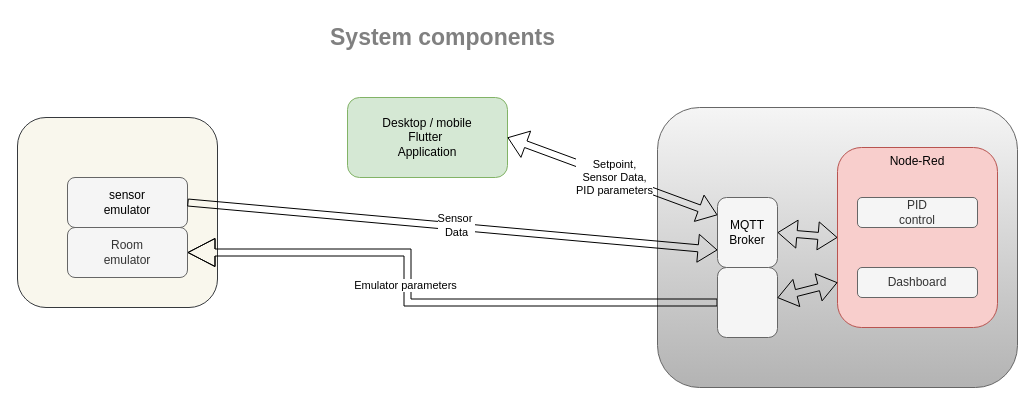
This 1035x405 diagram has some shape labels left out. Each missing label, with the box of its shape:
Cloud Server: (656, 106, 1018, 388)
ESP32 board: (16, 116, 218, 308)
htpp endpoint: (716, 266, 778, 338)
